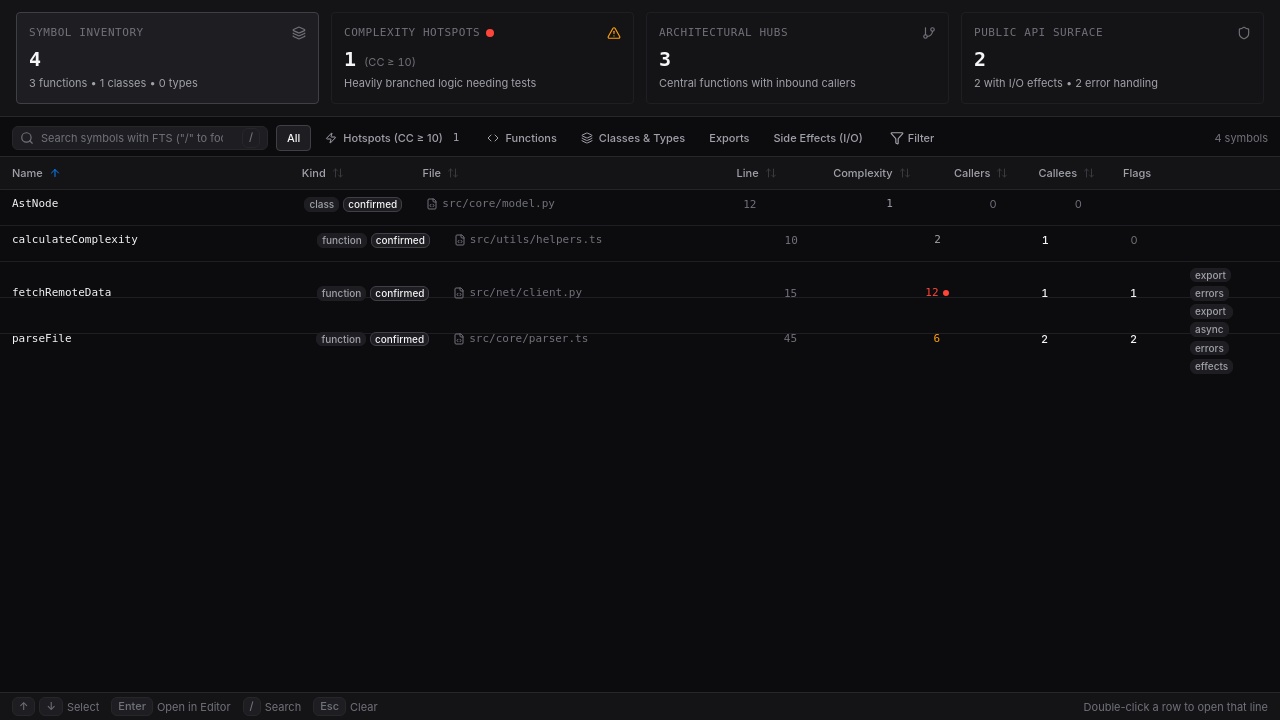
CodeIntelligenceView Component › filters symbols by kind dropdown
The width and height of the screenshot is (1280, 720).
Click the button "Filter": {"x": 912, "y": 138} [881,126,943,150]
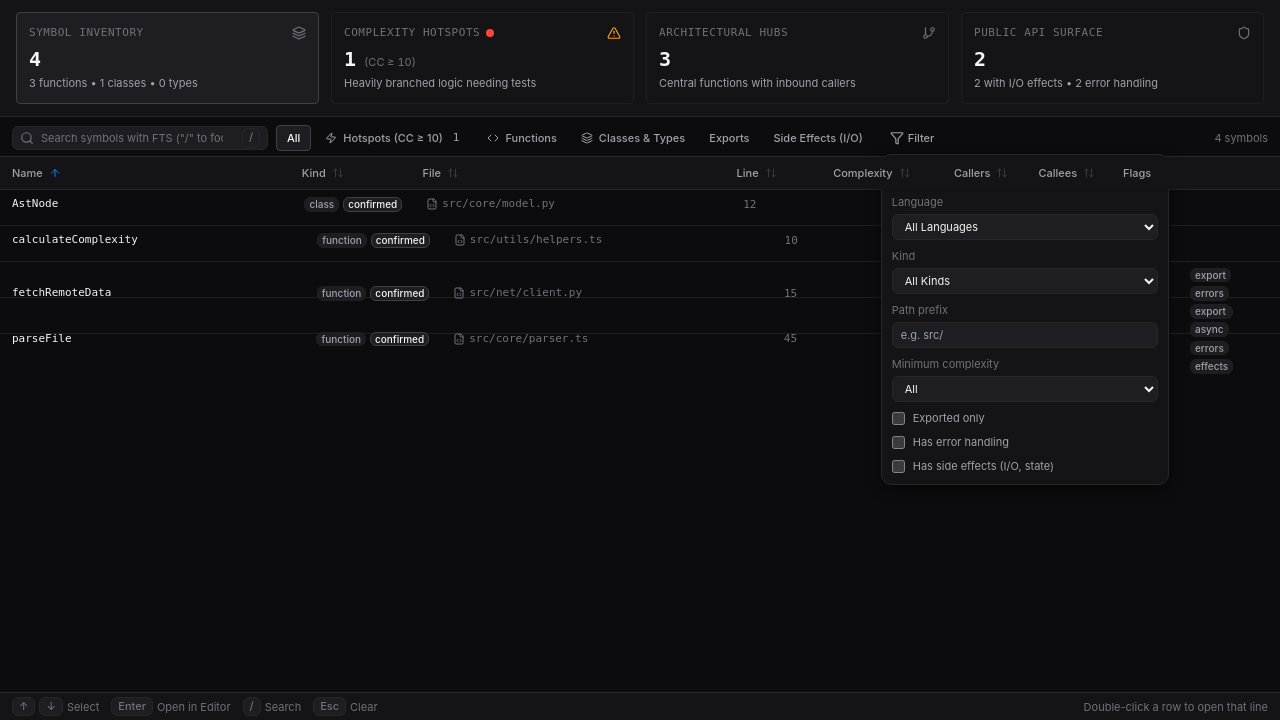
Select "Class" in the dropdown with test id "filter-kind": {"x": 1025, "y": 281} [892,268,1158,294]
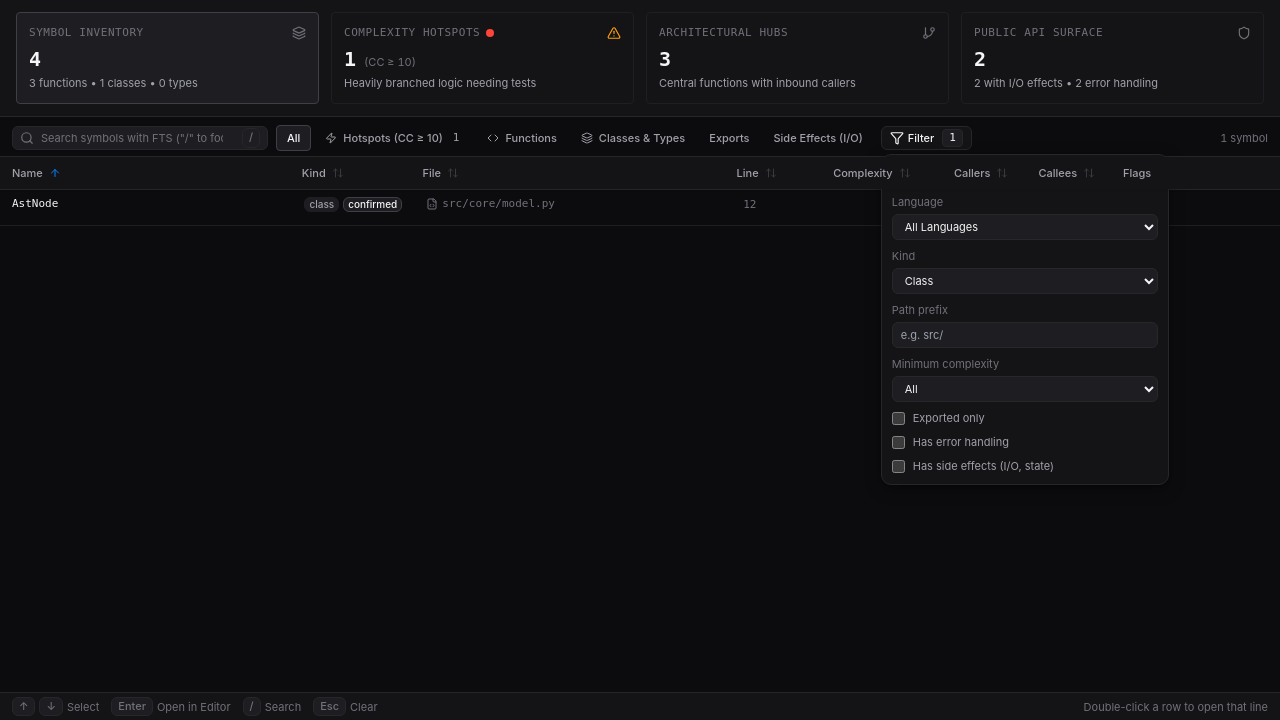
Check: the text "AstNode" is shown, box [12,196,58,212]
Check: the text "parseFile" is gone
Check: the text with test id "result-count" reads "1 symbol", box [1220,131,1268,145]
